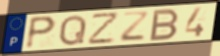4: (184, 6, 206, 39)
B: (148, 7, 181, 42)
P: (24, 15, 59, 51)
Q: (57, 14, 88, 47)
Z: (87, 11, 121, 46), (118, 11, 151, 43)
